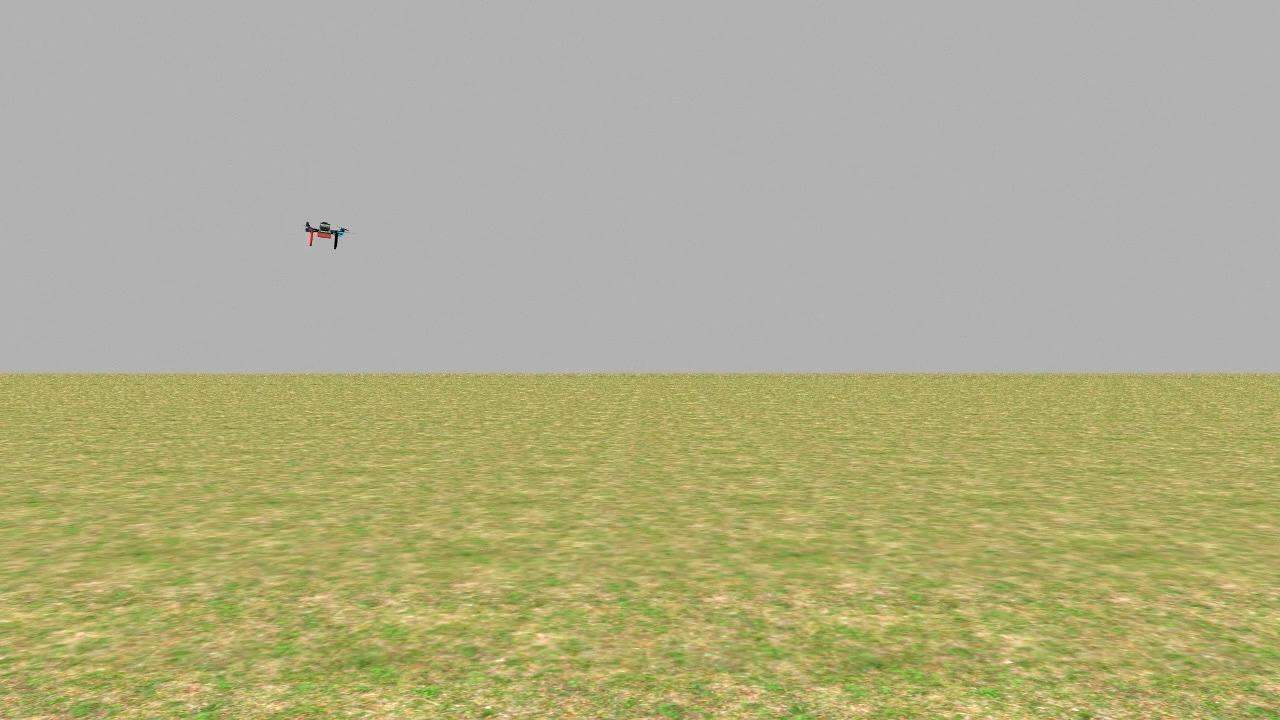UAV: (287, 209, 362, 259)
